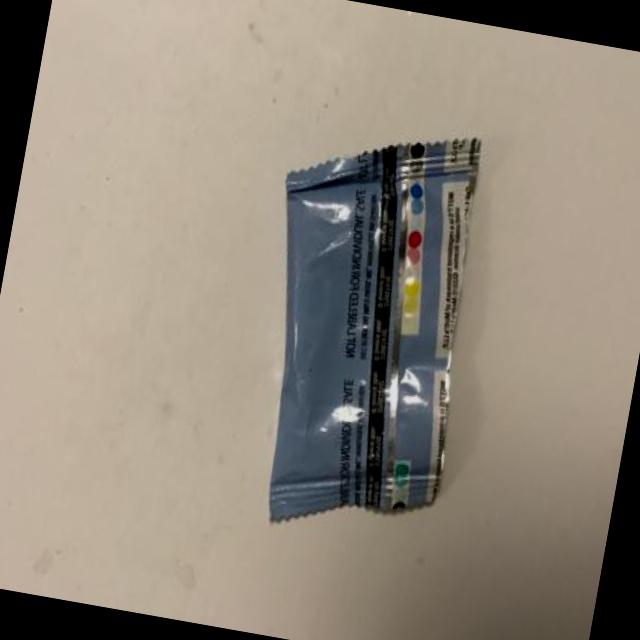giay_goi: (269, 140, 480, 522)
